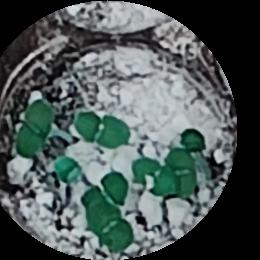Basil: (13, 97, 52, 163), (74, 106, 131, 149), (132, 155, 177, 194), (85, 208, 129, 247), (89, 167, 126, 211), (166, 148, 194, 195)
